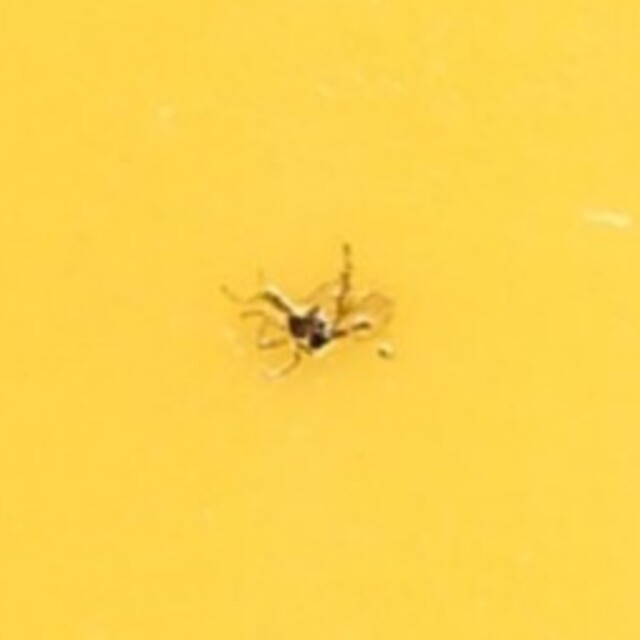Nematocera: (252, 275, 388, 365)
